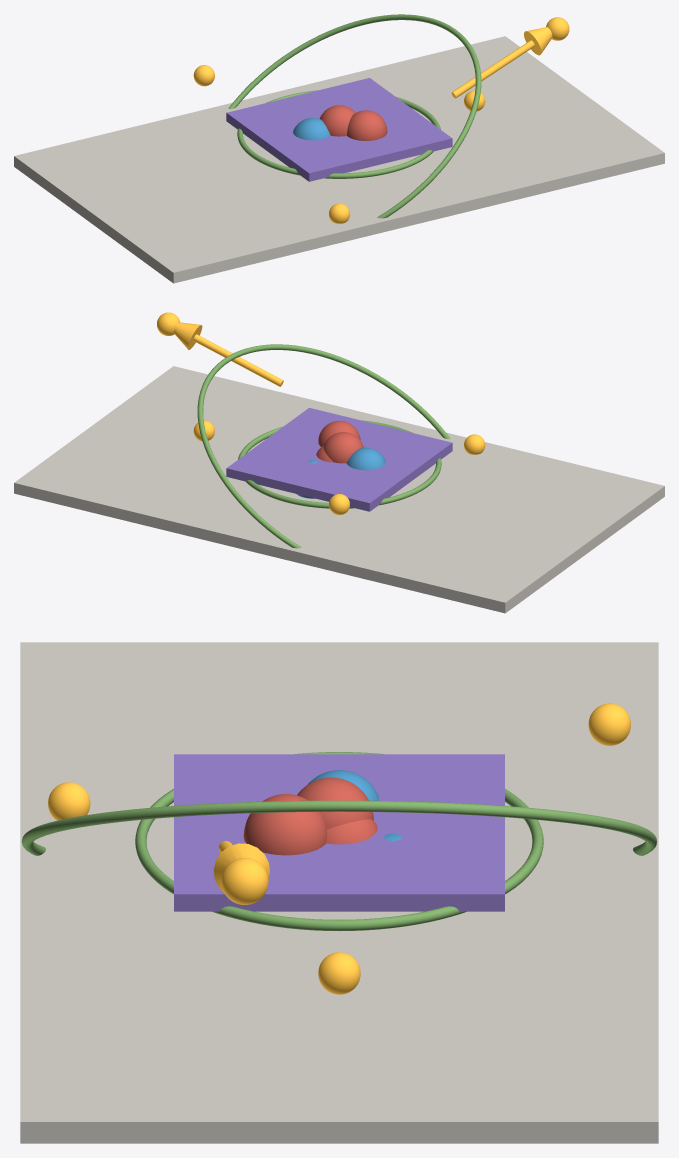
The model's file is chem-atoms-ion.glb.
The picture shows the model from 3 angles, top to bottom: view 1: azimuth 30°, elevation 25°; view 2: azimuth 150°, elevation 25°; view 3: azimuth 270°, elevation 25°; orthographic projection. The views are drawn at different scales.
Visible parts, largest first — view 1: concept-base, charged-ion-glow, electron-shell-2, electron-shell-1, proton-2, proton-3, electron-transfer-shaft, neutron-1, electron-transfer-head, lost-electron; view 2: concept-base, charged-ion-glow, electron-shell-2, electron-shell-1, proton-3, electron-transfer-shaft, neutron-1, proton-2, electron-transfer-head; view 3: concept-base, charged-ion-glow, electron-shell-2, electron-shell-1, proton-2, proton-3, lost-electron, electron-1, electron-3, electron-2, electron-transfer-head, proton-1.
Boxes of the visible parts, x1,y1,x2,y2 form: concept-base: (14, 36, 664, 283); charged-ion-glow: (226, 78, 452, 181); electron-shell-2: (228, 14, 481, 218); electron-shell-1: (237, 90, 440, 178); proton-2: (347, 110, 387, 140); proton-3: (320, 105, 355, 136); electron-transfer-shaft: (451, 40, 534, 98); neutron-1: (293, 118, 330, 140); electron-transfer-head: (524, 27, 552, 55); lost-electron: (546, 17, 569, 40); concept-base: (14, 366, 664, 613); charged-ion-glow: (226, 407, 452, 511); electron-shell-2: (197, 344, 450, 548); electron-shell-1: (238, 420, 441, 508); proton-3: (323, 432, 363, 463); electron-transfer-shaft: (193, 334, 283, 386); neutron-1: (346, 447, 385, 470); proton-2: (318, 420, 360, 446); electron-transfer-head: (174, 322, 202, 349); concept-base: (20, 642, 658, 1143); charged-ion-glow: (174, 754, 504, 911); electron-shell-2: (21, 800, 657, 855); electron-shell-1: (135, 752, 543, 931); proton-2: (243, 794, 327, 855); proton-3: (297, 777, 373, 829); lost-electron: (221, 857, 268, 904); electron-1: (318, 952, 360, 994); electron-3: (588, 703, 630, 745); electron-2: (48, 782, 90, 820); electron-transfer-head: (213, 843, 269, 892); proton-1: (326, 819, 377, 844).
Size of what is drawn, in the model's own units: 2.4 by 0.7568 by 1.35.
